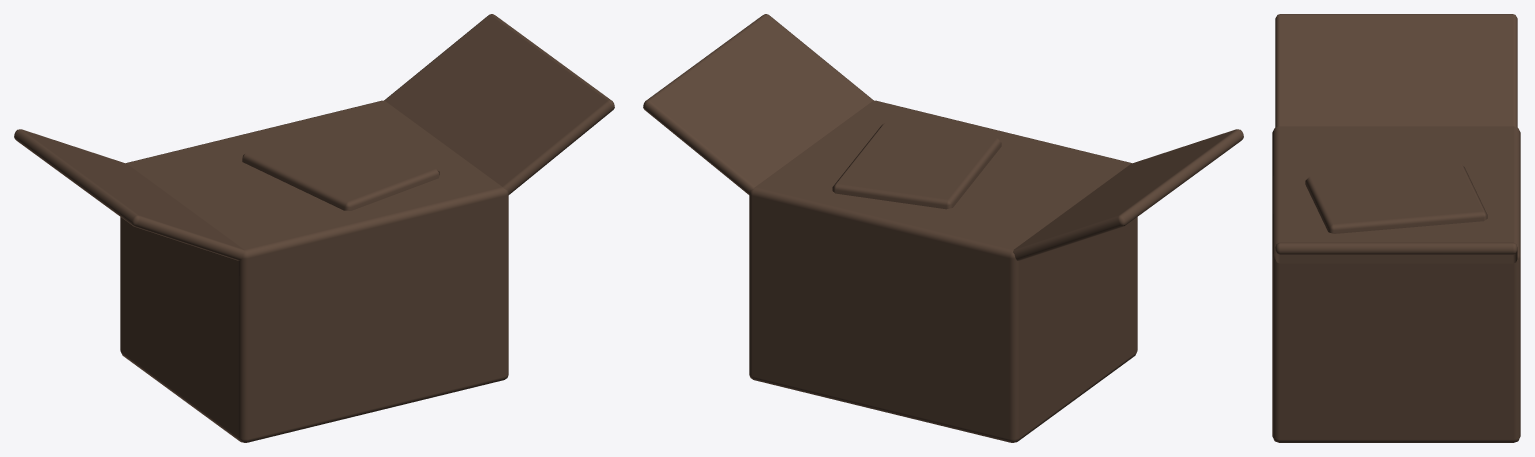
3 views of the same model, side by side, from view 1: azimuth 30°, elevation 25°; view 2: azimuth 150°, elevation 25°; view 3: azimuth 270°, elevation 25° (orthographic).
Visible parts, largest first — view 1: box; view 2: box; view 3: box.
Boxes of the visible parts, x1=… form: box: x1=14, y1=14, x2=614, y2=442; box: x1=643, y1=14, x2=1243, y2=442; box: x1=1272, y1=14, x2=1520, y2=442.
Size of the model in its own units: 0.9105 by 0.4572 by 0.4087.
